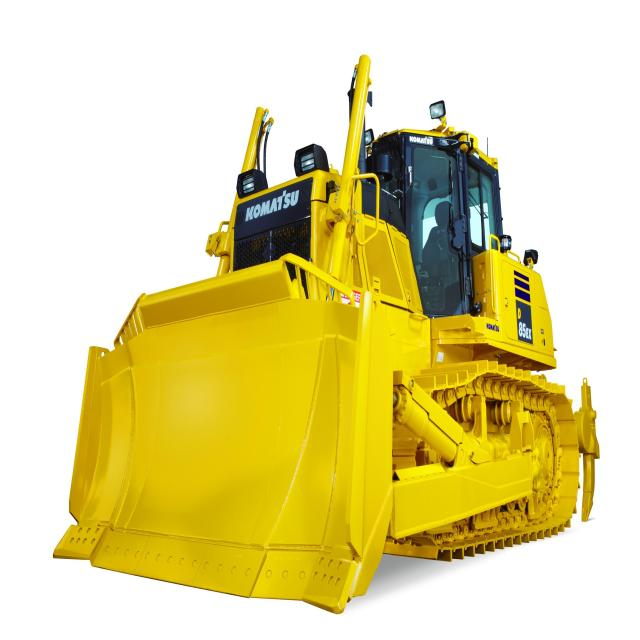buldozerpayloadergrader: (57, 48, 628, 622)
